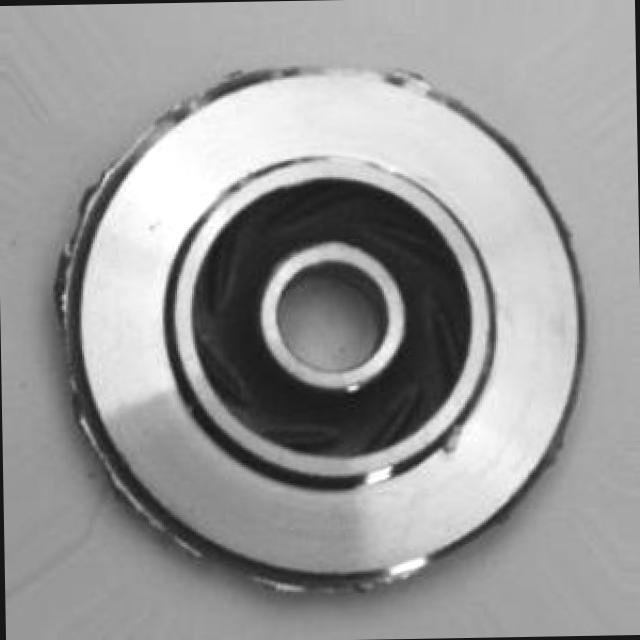Defect: (45, 169, 123, 236)
